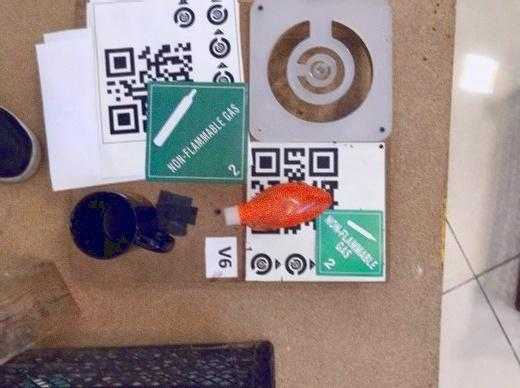non-flammable-gas: (146, 83, 247, 181), (315, 209, 383, 277)
